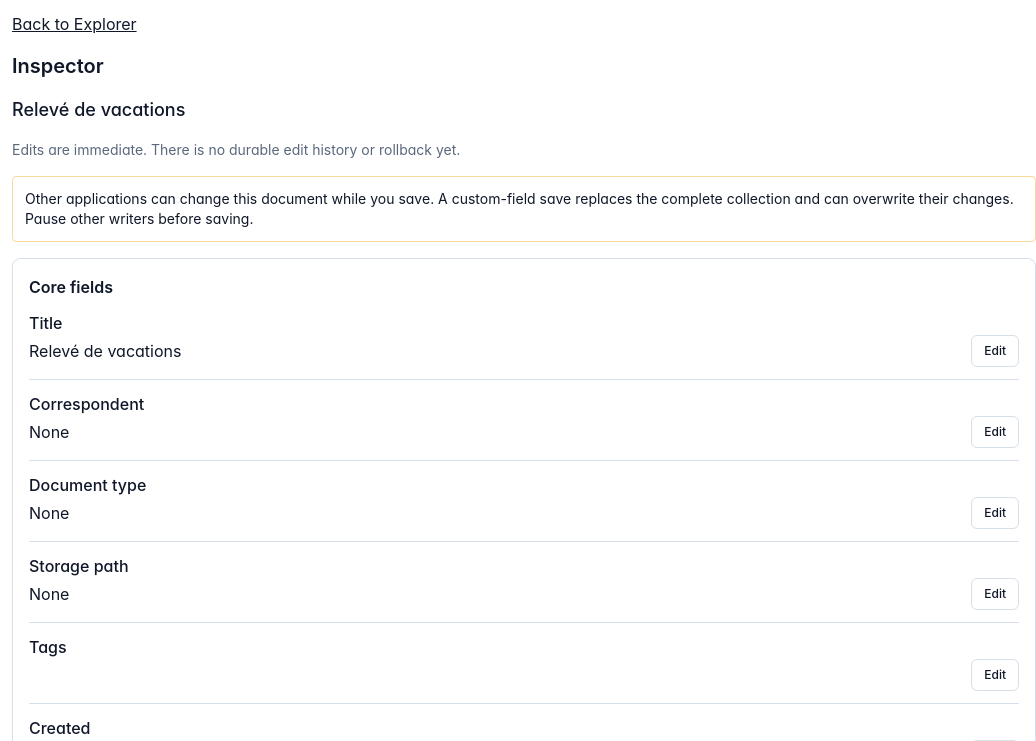
Test: Inspector › shows actual normalization and invalidates grid/detail/count caches
Click the button with aria-label "Edit Title" at x=995, y=351, box [971,335,1019,367]
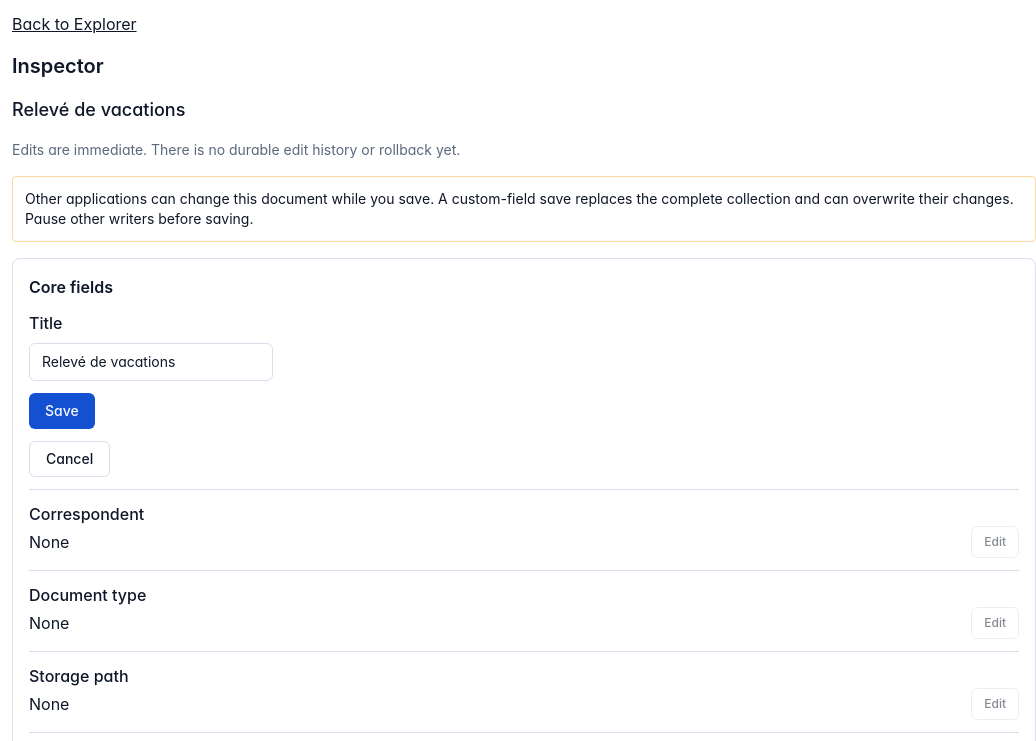
Replace the text in the field named "Title" with "  New title  " at x=151, y=362, box [29,343,273,381]
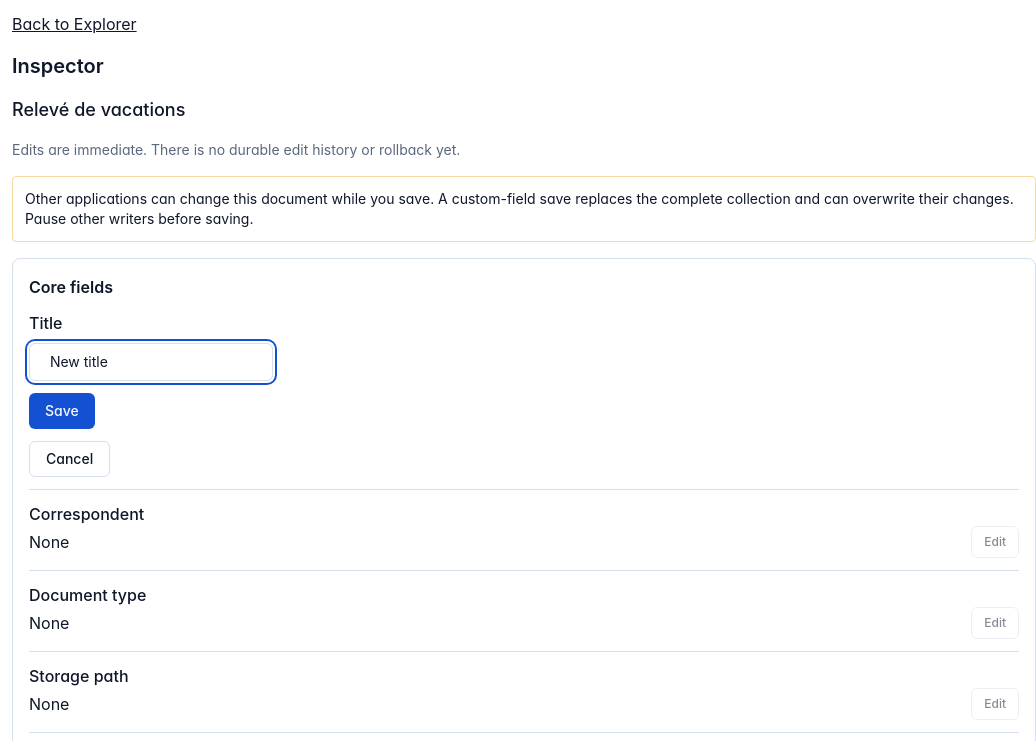
Click the button "Save" at x=62, y=411, box [29,393,95,429]
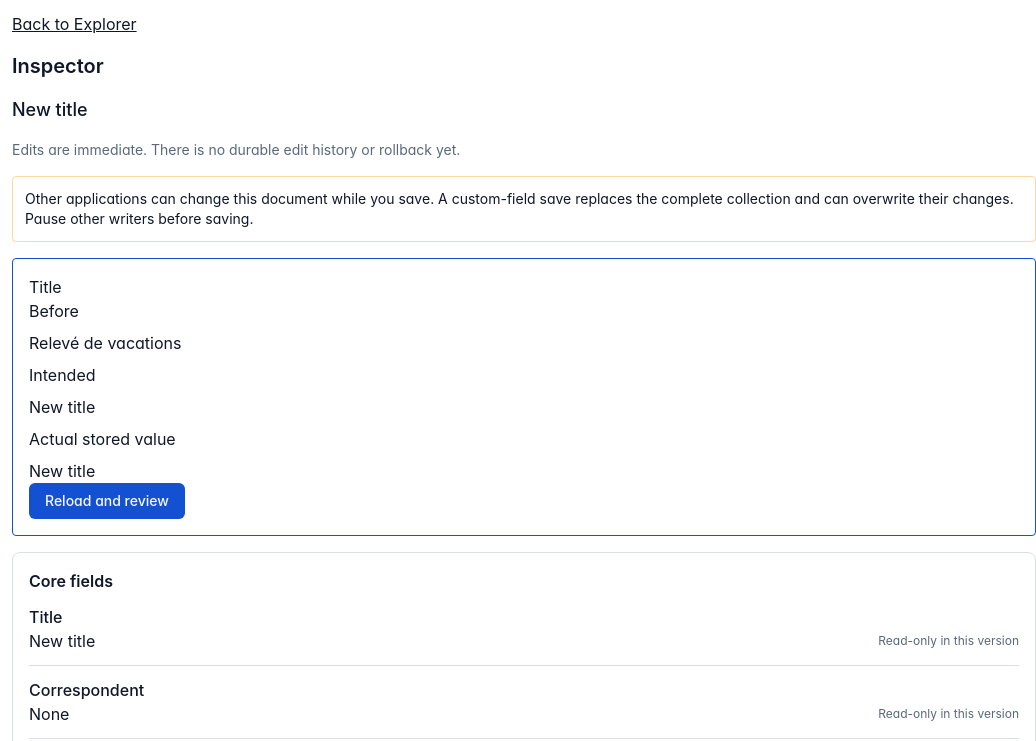
Now the text "Actual stored value" is shown, box [29,429,176,449]
Now the text "New title" is shown, box [12,99,88,120]
Now the message shows "New title", box [29,397,95,417]
